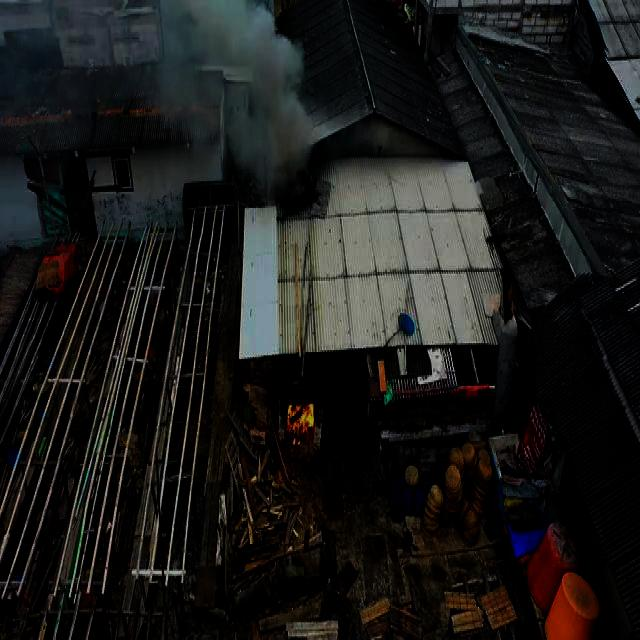smoke: (153, 1, 244, 144), (222, 87, 311, 196), (234, 0, 303, 101)
